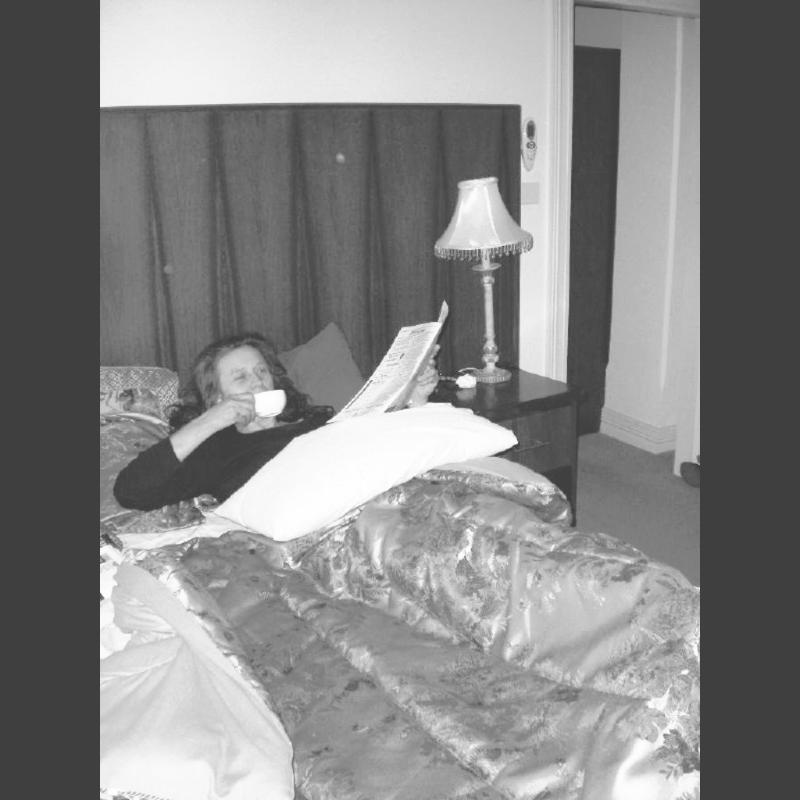pillow: (212, 398, 516, 538), (280, 324, 366, 420), (100, 370, 174, 426)
